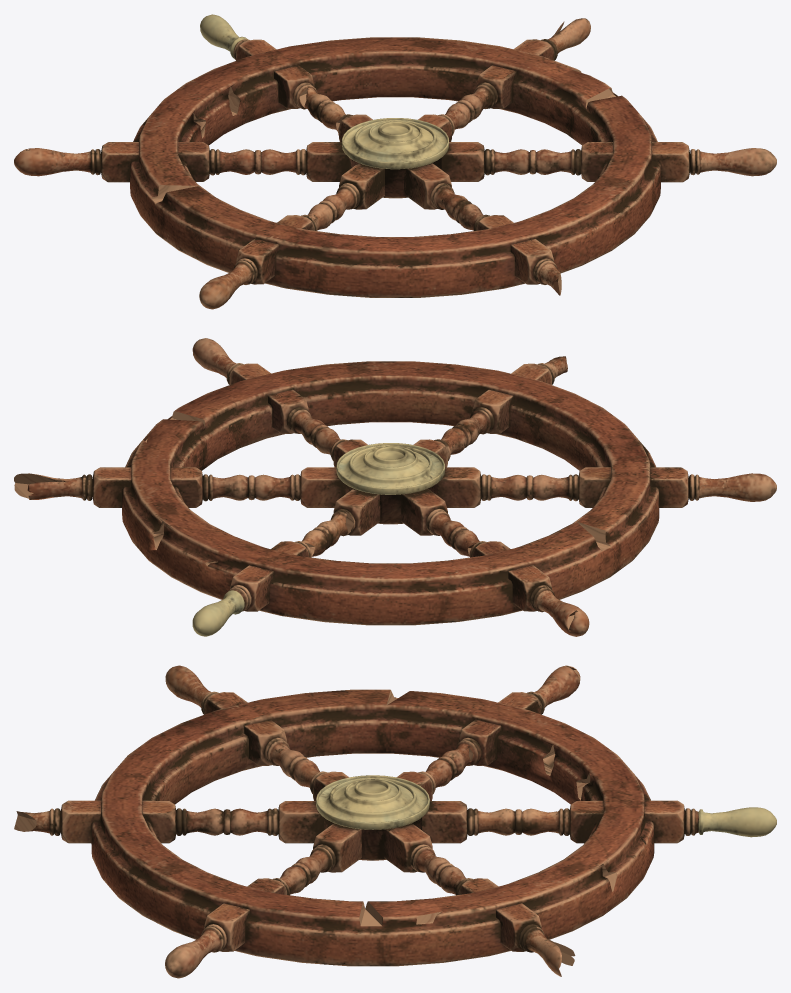
Rendered from Ship_Wheel_MidHealth.fbx.
The picture shows the model from 3 angles, top to bottom: view 1: azimuth 30°, elevation 25°; view 2: azimuth 150°, elevation 25°; view 3: azimuth 270°, elevation 25°; orthographic projection. The views are drawn at different scales.
Visible parts, largest first — view 1: Wheel_LowHealth; view 2: Wheel_LowHealth; view 3: Wheel_LowHealth.
Boxes of the visible parts, bbox=[...] form: Wheel_LowHealth: bbox=[14, 14, 776, 309]; Wheel_LowHealth: bbox=[14, 338, 776, 636]; Wheel_LowHealth: bbox=[14, 665, 776, 978].
Size of the model in its own units: 2.48 by 0.2426 by 2.7.
